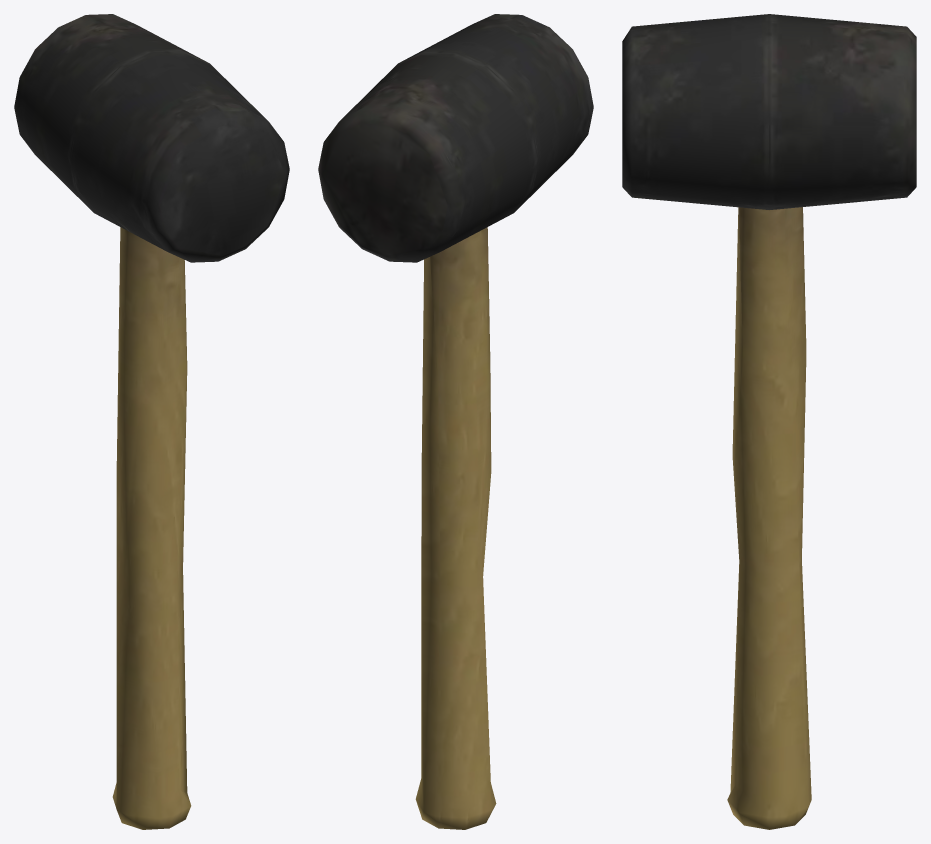
Rendered from Mallet.glb.
3 renders of one model, left to right at view 1: azimuth 30°, elevation 25°; view 2: azimuth 150°, elevation 25°; view 3: azimuth 270°, elevation 25°, orthographic. The views are drawn at different scales.
Visible parts, largest first — view 1: mallet; view 2: mallet; view 3: mallet.
Part boxes in pixels (bbox=[...]): mallet: bbox=[14, 14, 289, 829]; mallet: bbox=[318, 14, 593, 829]; mallet: bbox=[622, 14, 916, 829].
Bounding box in the file's own units: 0.0769 × 0.342 × 0.1153.
1 material, 1 textured.
